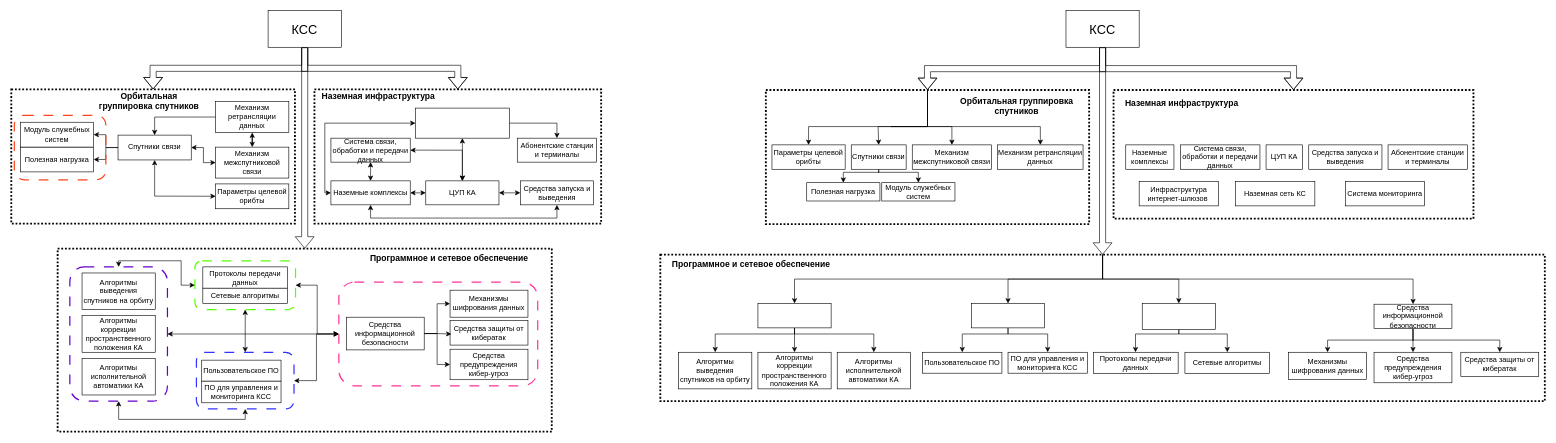
This 1556x443 diagram has some shape labels left out. Here are the shapes that lost their labels. From the top down, the centre of each, then its label:
At [462,122]: "Инфраструктура интернет-шлюзов и наземная сеть КС".
At [794,315]: "Алгоритмы КА и средств выведения".
At [1008,315]: "Программное обеспечение".
At [1178,316]: "Архитектура передачи данных".
